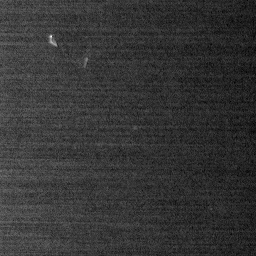sct: (48, 32, 61, 47), (80, 56, 91, 68)
